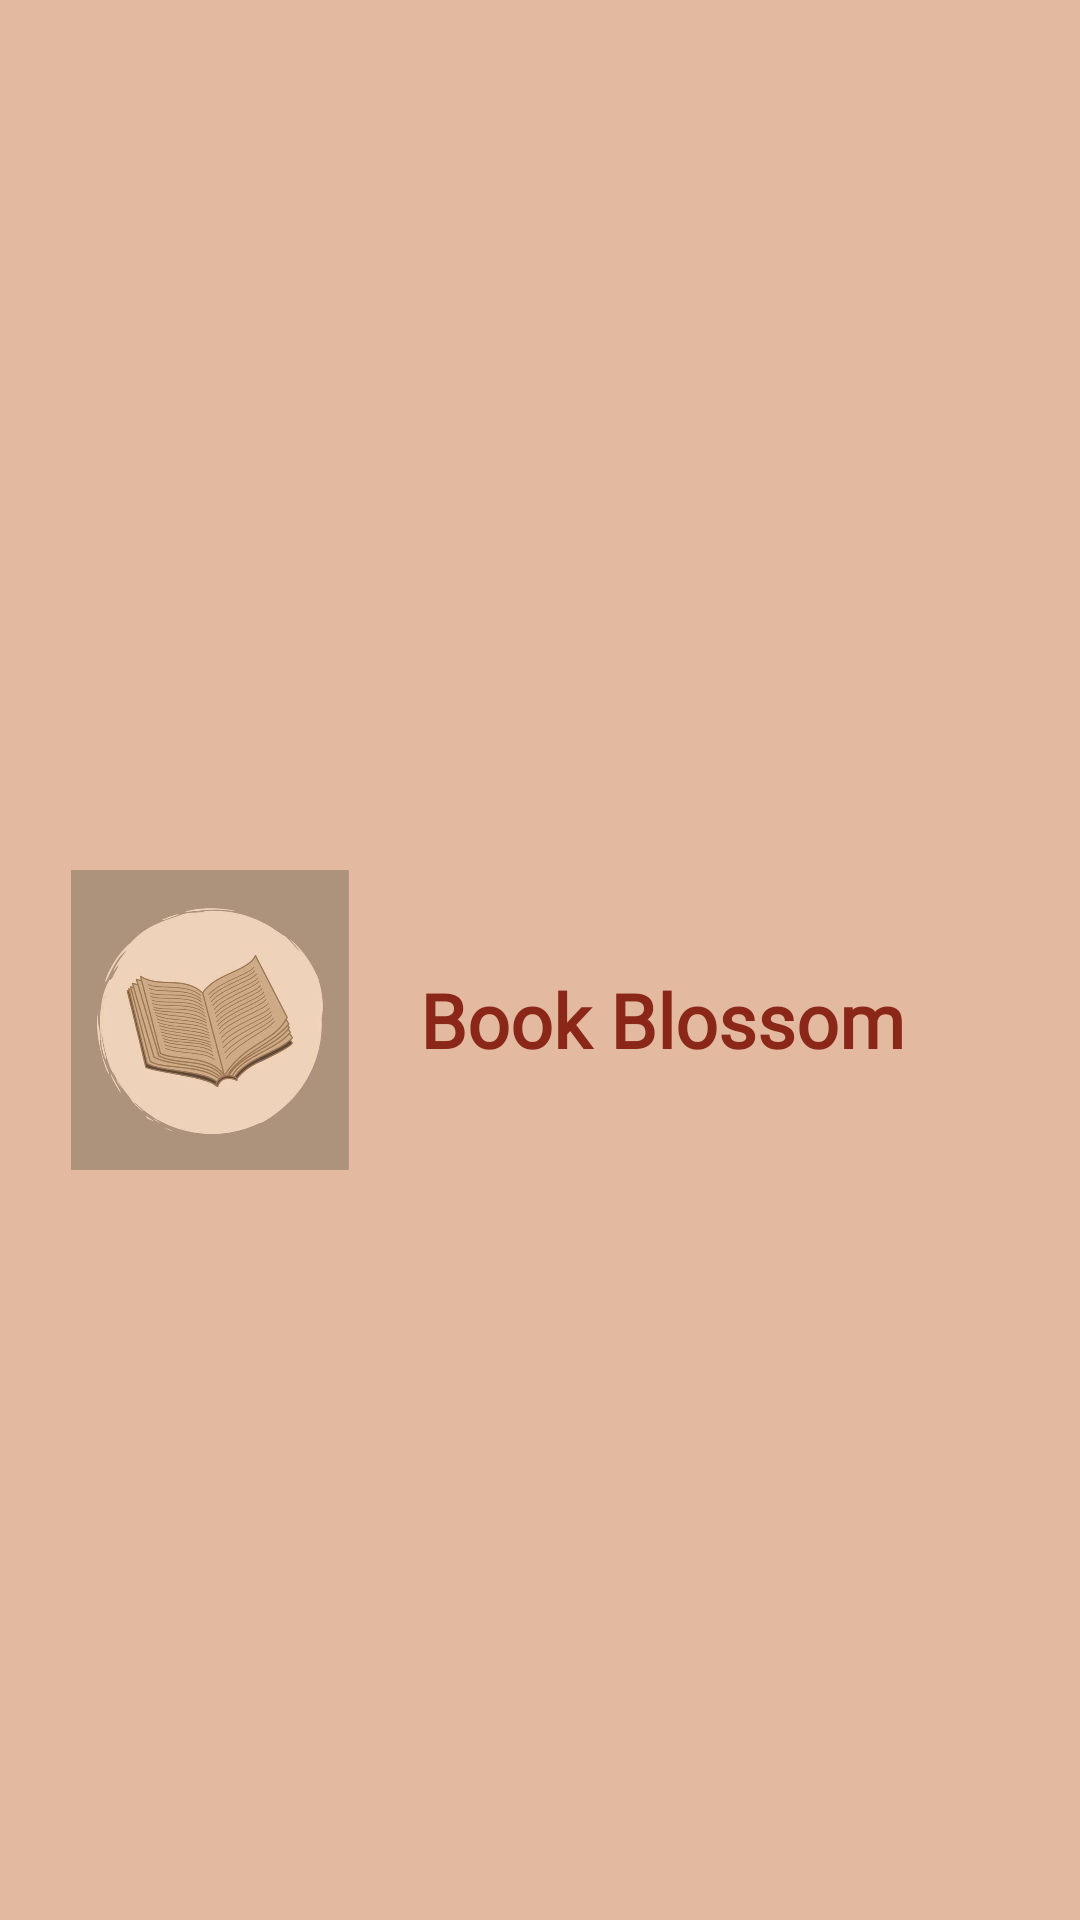

Icons on this 1080px x 1920px Android screen, each with the point to tap as point (x, y):
navbook: point (210, 1020)
